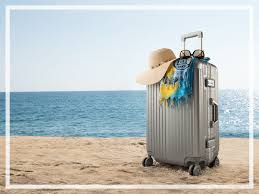suitcase: (141, 31, 222, 176)
